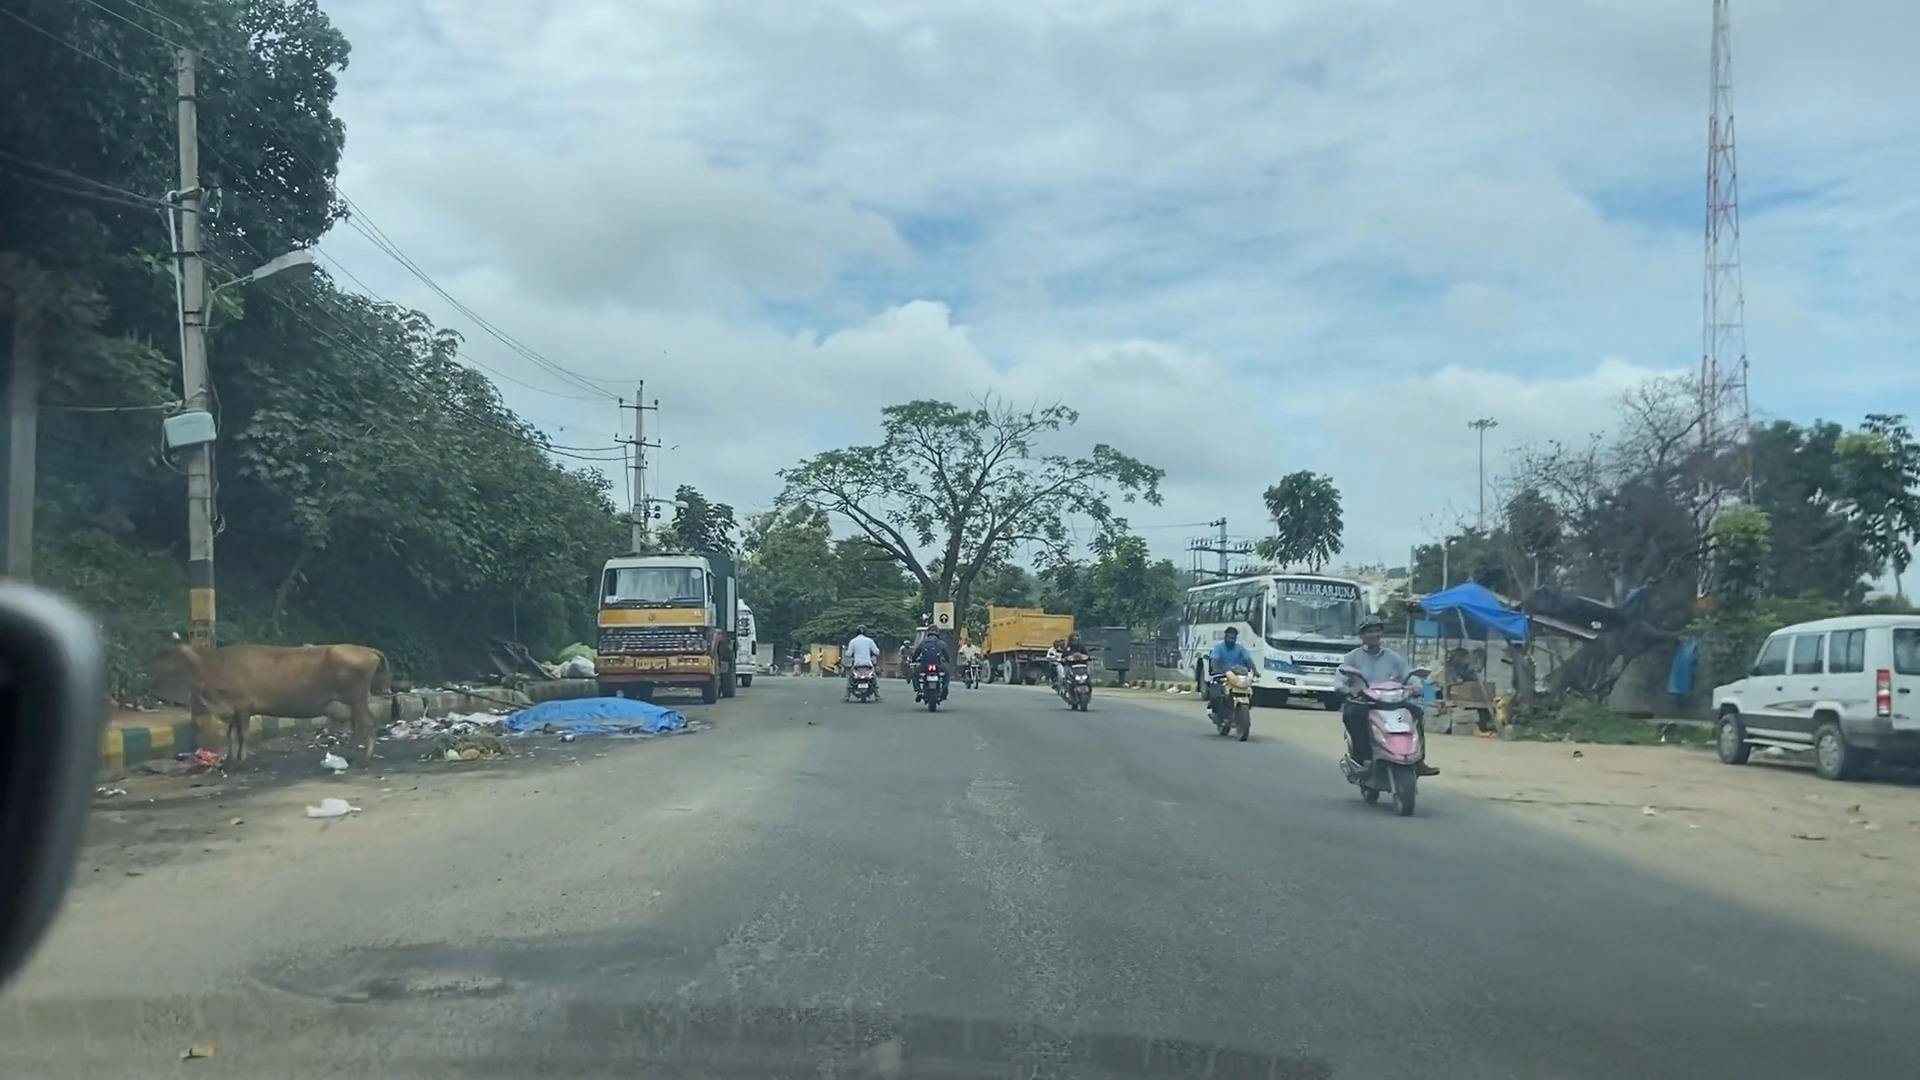HMV: (0, 264, 228, 1019), (574, 517, 752, 733), (1162, 545, 1366, 717), (940, 591, 1081, 707)
LMV: (1669, 616, 1920, 798), (1323, 609, 1461, 865), (884, 549, 980, 773), (1195, 620, 1278, 756), (811, 601, 885, 736), (1056, 626, 1098, 720)
RoadDamages: (245, 919, 542, 1050)
